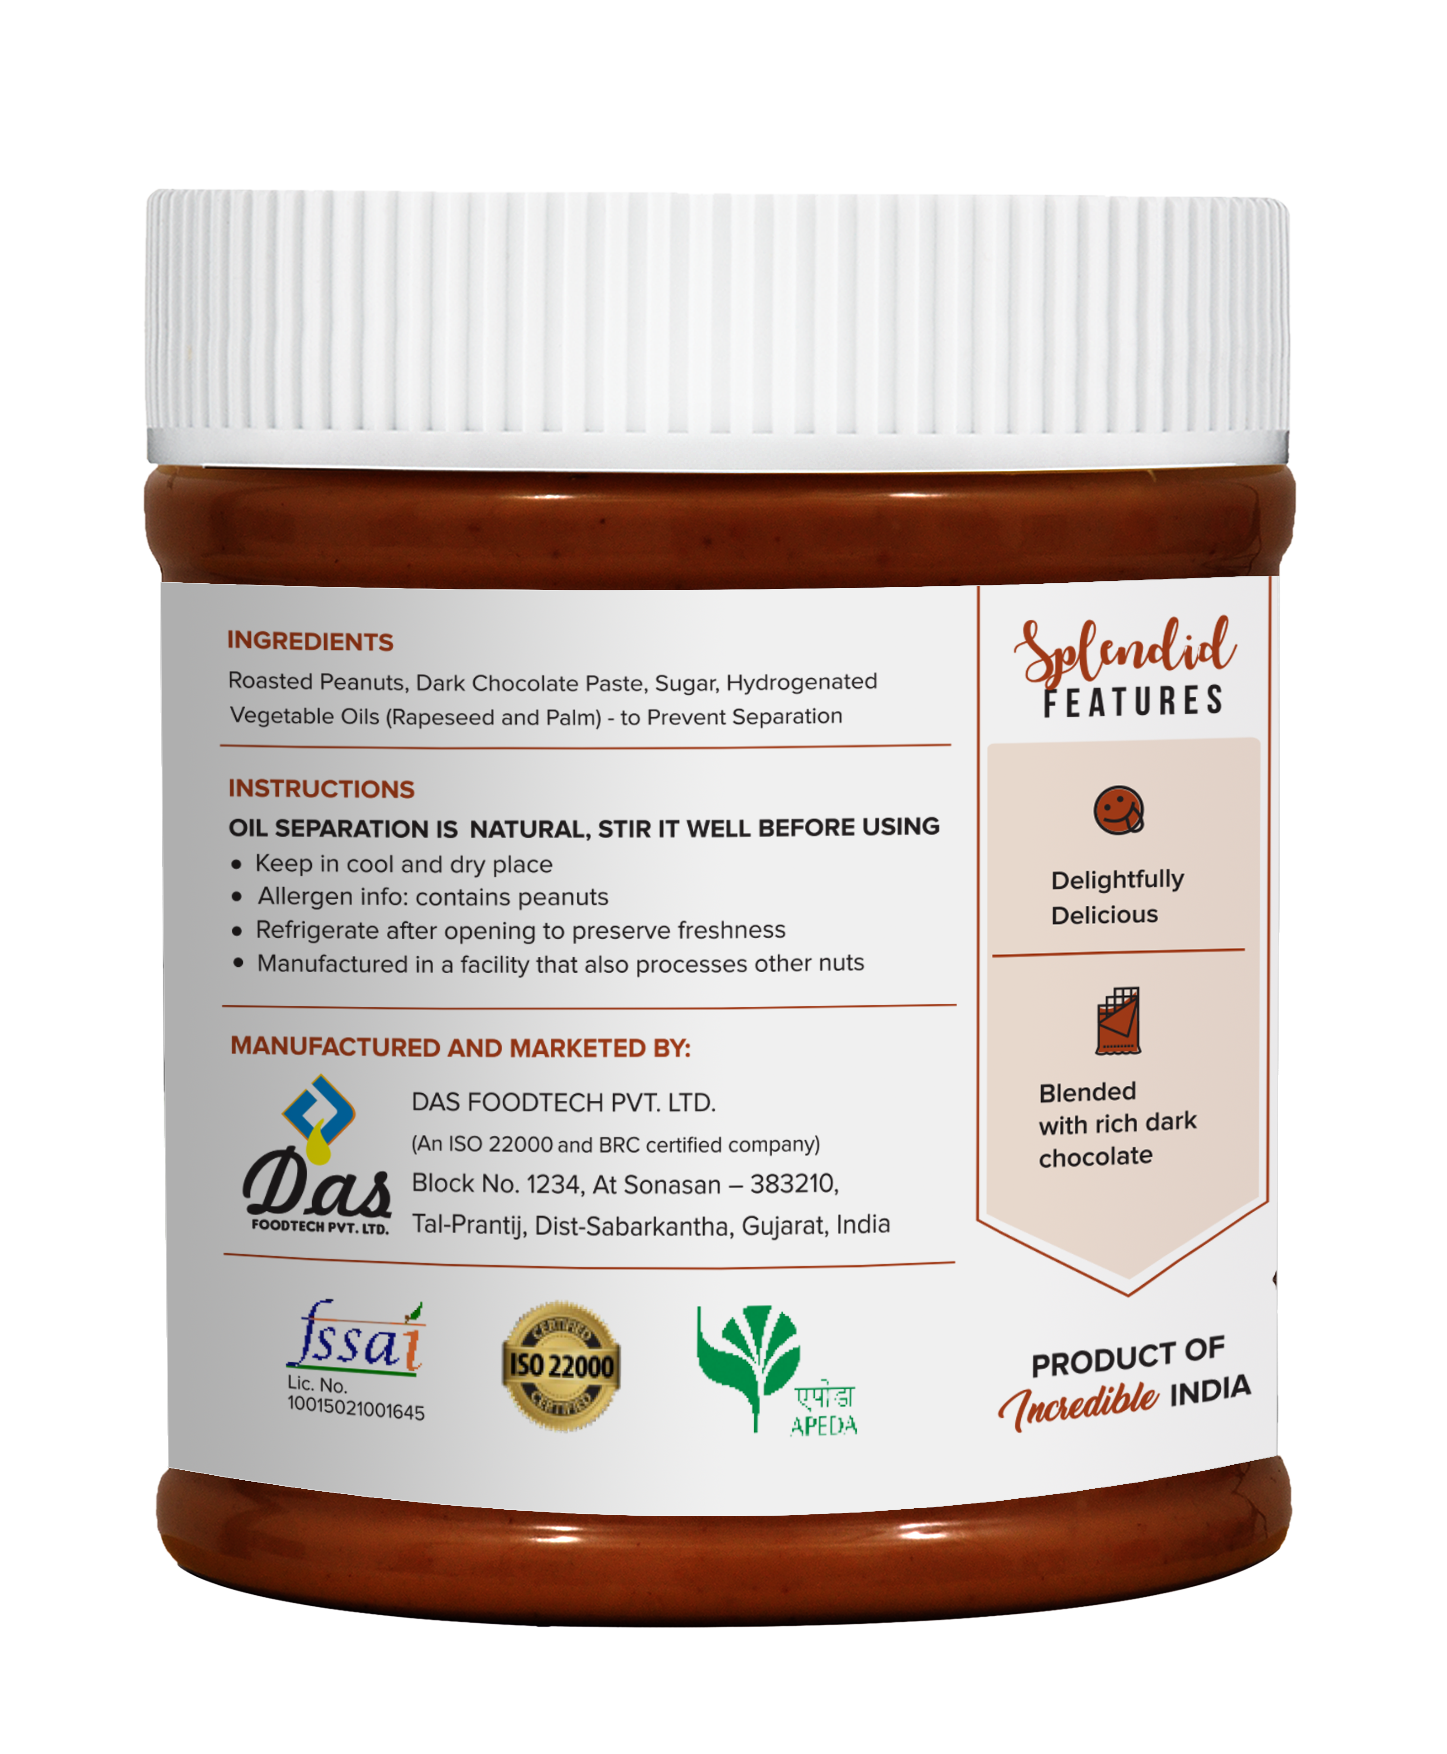fssai: (283, 1299, 426, 1374)
